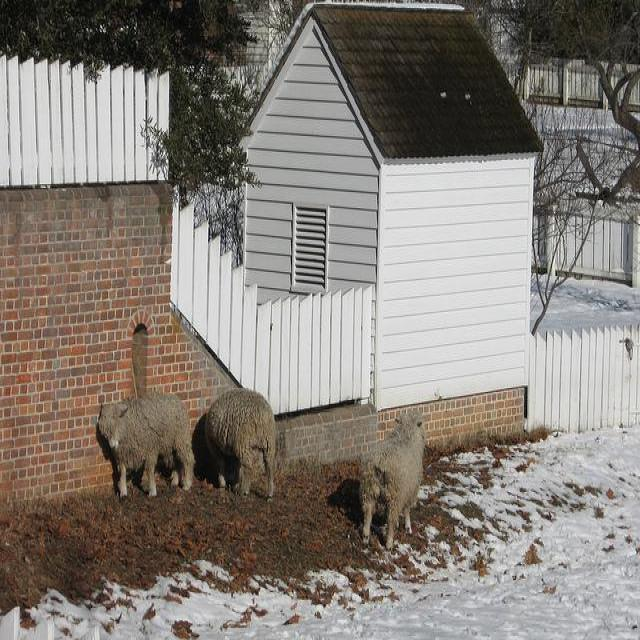Sheep: (96, 389, 194, 503), (362, 414, 428, 554), (207, 388, 276, 503)
